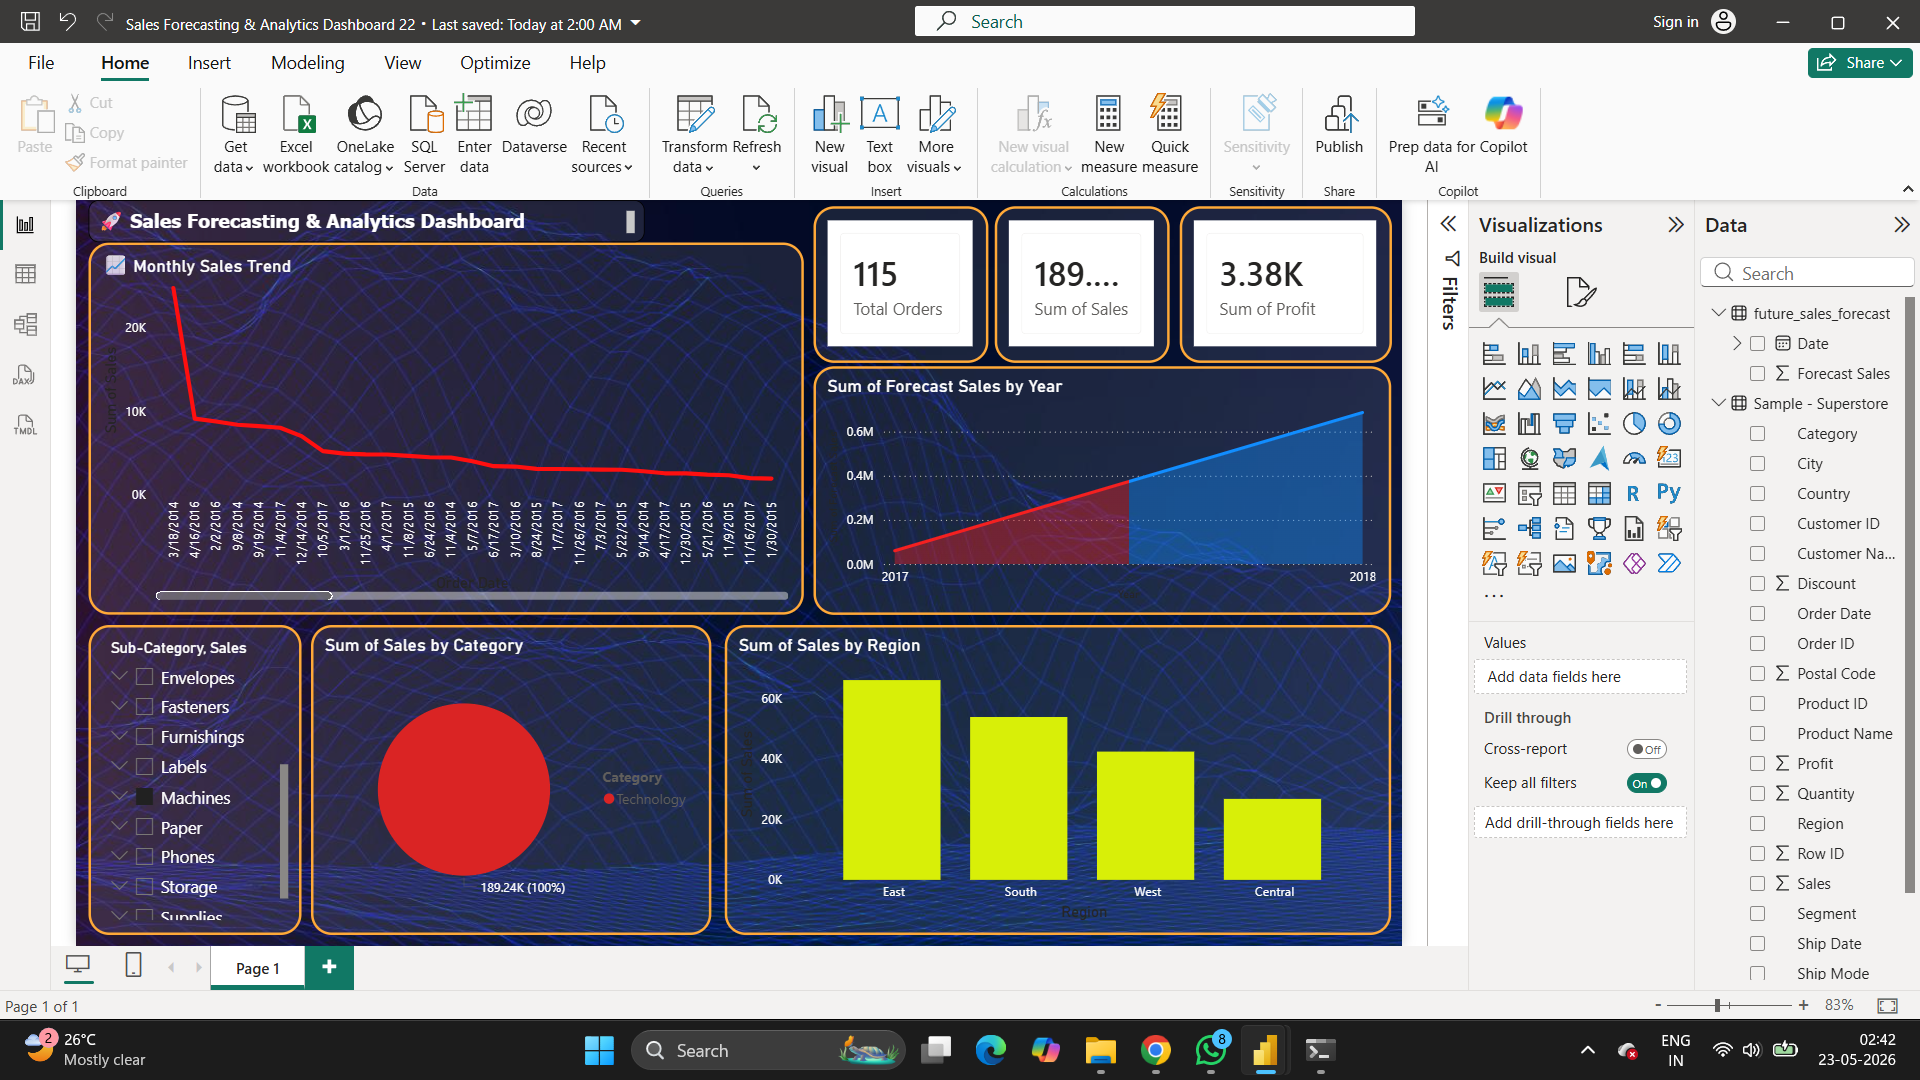

This screenshot's page, from the dashboard's own definition file:
{"tool":"powerbi","page":{"name":"Page 1","canvas":[1280,720],"ordinal":0},"visuals":[{"type":"cardVisual","fields":{"Data":["Sum(Sample - Superstore.Profit)"]},"box":[1064.8,5.5,204.5,150.9],"z":0},{"type":"cardVisual","fields":{"Data":["Sum(Sample - Superstore.Sales)"]},"box":[886.5,5.5,168.8,150.9],"z":1000},{"type":"cardVisual","fields":{"Data":["Sample - Superstore.Total Orders"]},"box":[712.2,5.5,168.8,150.9],"z":2000},{"type":"lineChart","title":"📈 Monthly Sales Trend","fields":{"Category":["Sample - Superstore.Order Date"],"Y":["Sum(Sample - Superstore.Sales)"]},"box":[12.1,41,690.1,359.5],"z":3000},{"type":"clusteredColumnChart","fields":{"Category":["Sample - Superstore.Region"],"Y":["Sum(Sample - Superstore.Sales)"]},"box":[626.1,410.2,643,299.2],"z":4000},{"type":"pieChart","fields":{"Category":["Sample - Superstore.Category"],"Y":["Sum(Sample - Superstore.Sales)"]},"box":[226.8,410.2,386.1,299.2],"z":5000},{"type":"slicer","fields":{"Values":["Sample - Superstore.Sub-Category","Sample - Superstore.Sales"]},"box":[12.3,410.3,205.8,299.1],"z":6000},{"type":"areaChart","fields":{"Category":["future_sales_forecast.Date.Variation.Date Hierarchy.Year","future_sales_forecast.Date.Variation.Date Hierarchy.Month","future_sales_forecast.Date.Variation.Date Hierarchy.Day"],"Y":["Sum(future_sales_forecast.Forecast Sales)"]},"box":[711.8,160.5,557.4,240.1],"z":7000},{"type":"textbox","box":[12.3,0,536.5,41.2],"z":8000}]}

Visuals, with their boxes on the page's 1280x720 design canvas (x1, y1, x2, y2). These are canvas units, not pixel positions in the 1920x1080 screenshot, which may show the page scaled, cropped or inside an application window:
cardVisual - Sum(Sample - Superstore.Profit): rect(1065, 6, 1269, 156)
cardVisual - Sum(Sample - Superstore.Sales): rect(886, 6, 1055, 156)
cardVisual - Sample - Superstore.Total Orders: rect(712, 6, 881, 156)
"📈 Monthly Sales Trend" lineChart: rect(12, 41, 702, 400)
clusteredColumnChart - Sample - Superstore.Region x Sum(Sample - Superstore.Sales): rect(626, 410, 1269, 709)
pieChart - Sample - Superstore.Category x Sum(Sample - Superstore.Sales): rect(227, 410, 613, 709)
slicer - Sample - Superstore.Sub-Category x Sample - Superstore.Sales: rect(12, 410, 218, 709)
areaChart - future_sales_forecast.Date.Variation.Date Hierarchy.Year x future_sales_forecast.Date.Variation.Date Hierarchy.Month: rect(712, 160, 1269, 401)
textbox: rect(12, 0, 549, 41)
